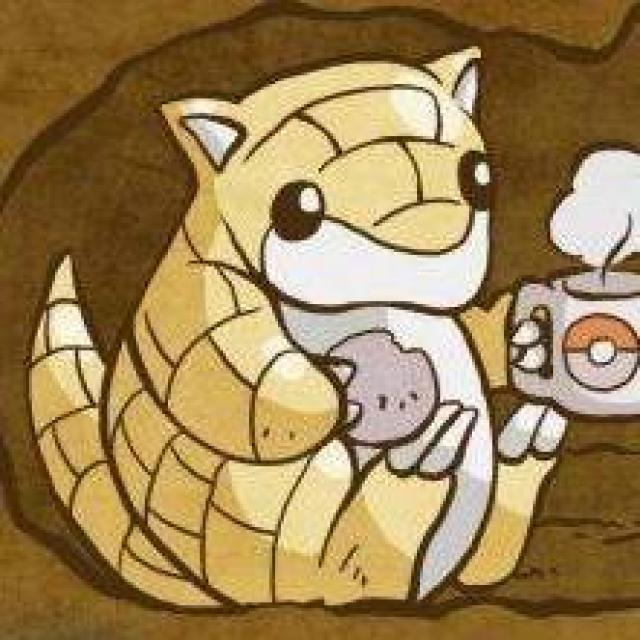Sandshrew: (61, 81, 532, 568)
